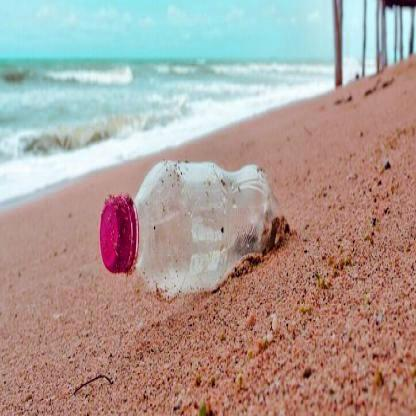Plastic: (98, 155, 282, 305)
